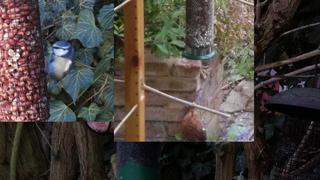blue tit: (39, 40, 74, 90)
